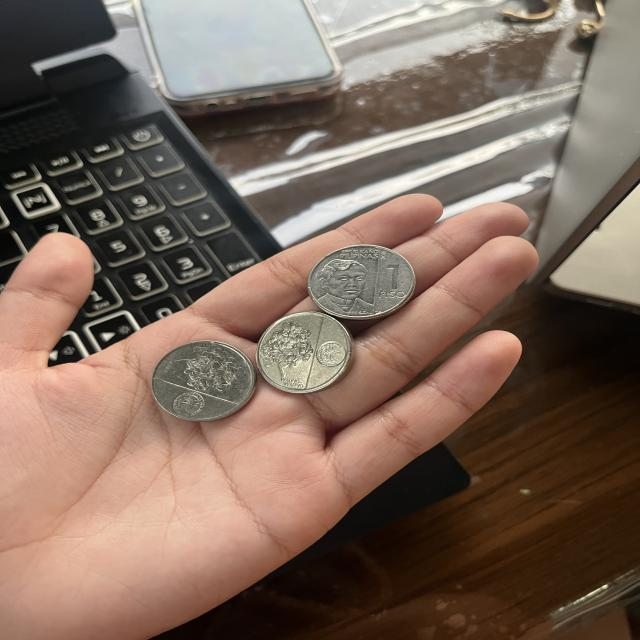1_New_Back: (257, 313, 344, 387), (163, 339, 238, 417)
1_New_Front: (305, 244, 417, 321)
